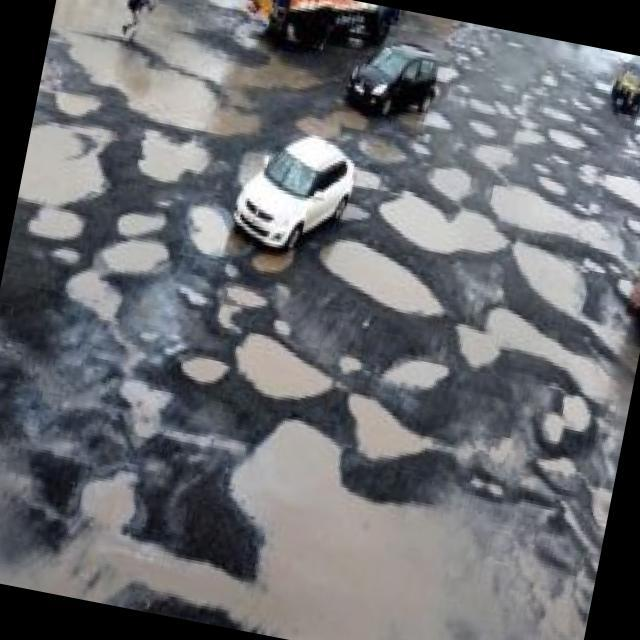Pothole: (330, 485, 521, 640), (460, 302, 630, 400), (18, 104, 128, 216), (318, 241, 460, 325), (240, 412, 334, 534), (485, 176, 617, 249), (336, 383, 440, 472), (376, 198, 505, 269), (232, 331, 336, 407), (501, 237, 600, 314), (100, 364, 179, 446), (68, 458, 145, 540), (94, 227, 174, 284), (131, 128, 218, 180), (184, 197, 242, 260), (174, 342, 236, 398), (390, 338, 448, 396), (65, 266, 123, 320), (422, 158, 478, 204)
